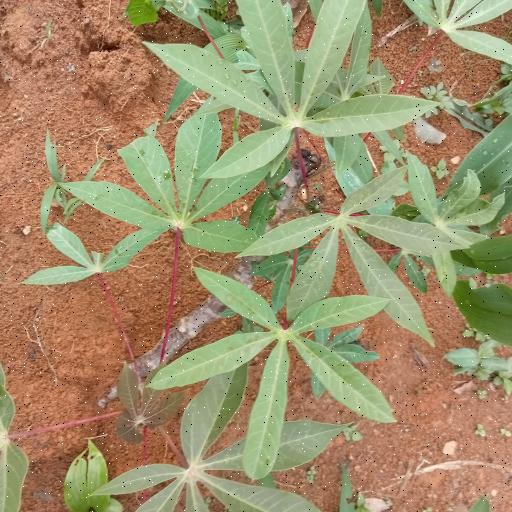Cassava_Mosaic: (243, 170, 456, 336)
